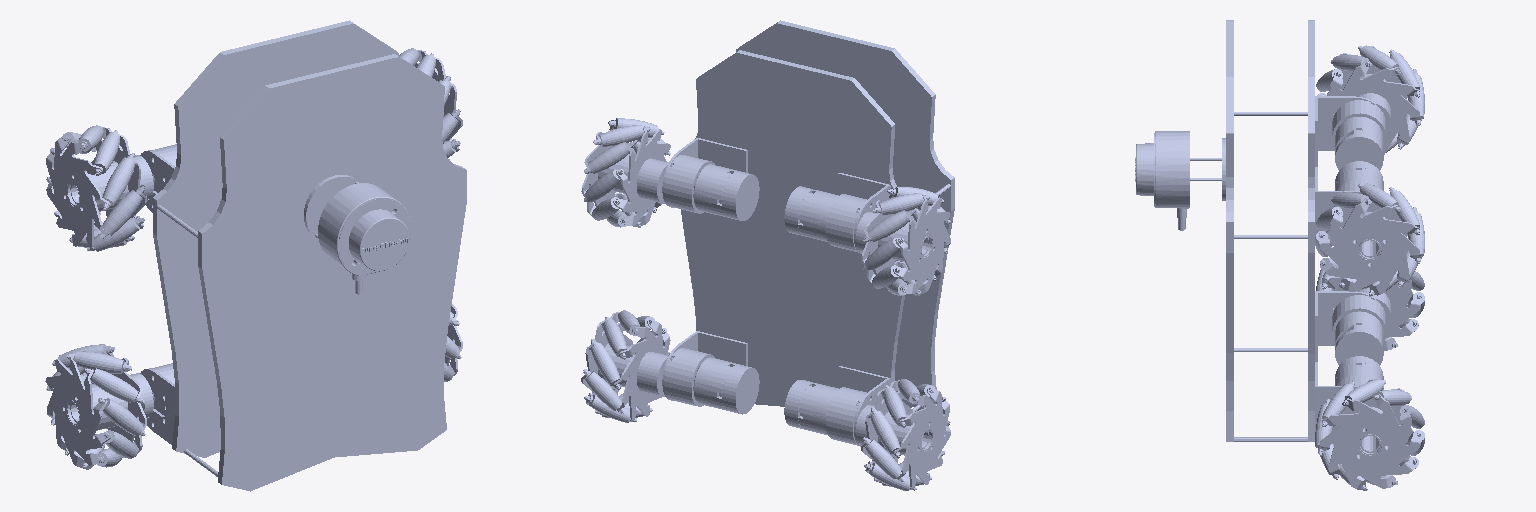
The robot description file, URDF, robot "智能小车装配体.SLDASM":
<?xml version="1.0" encoding="utf-8"?>
<!-- This URDF was automatically created by SolidWorks to URDF Exporter! Originally created by [author] ([email redacted]) 
     Commit Version: 1.6.0-4-g7f85cfe  Build Version: 1.6.7995.38578
     For more information, please see http://wiki.ros.org/sw_urdf_exporter -->
<robot
  name="智能小车装配体.SLDASM">
  <link
    name="base_link">
    <inertial>
      <origin
        xyz="-0.017914 -0.014942 -0.045427"
        rpy="0 0 0" />
      <mass
        value="0.64236" />
      <inertia
        ixx="0.0021986"
        ixy="-2.369E-08"
        ixz="1.0588E-20"
        iyy="0.00095836"
        iyz="9.7164E-21"
        izz="0.0031168" />
    </inertial>
    <visual>
      <origin
        xyz="0 0 0"
        rpy="0 0 0" />
      <geometry>
        <mesh
          filename="package://智能小车装配体.SLDASM/meshes/base_link.STL" />
      </geometry>
      <material
        name="">
        <color
          rgba="0.79216 0.81961 0.93333 1" />
      </material>
    </visual>
    <collision>
      <origin
        xyz="0 0 0"
        rpy="0 0 0" />
      <geometry>
        <mesh
          filename="package://智能小车装配体.SLDASM/meshes/base_link.STL" />
      </geometry>
    </collision>
  </link>
  <link
    name="wheel0_link">
    <inertial>
      <origin
        xyz="0.02814 -5.6685E-05 6.6161E-05"
        rpy="0 0 0" />
      <mass
        value="0.057357" />
      <inertia
        ixx="3.4009E-05"
        ixy="1.3644E-13"
        ixz="-1.4396E-13"
        iyy="2.1059E-05"
        iyz="1.1518E-12"
        izz="2.1081E-05" />
    </inertial>
    <visual>
      <origin
        xyz="0 0 0"
        rpy="0 0 0" />
      <geometry>
        <mesh
          filename="package://智能小车装配体.SLDASM/meshes/wheel0_link.STL" />
      </geometry>
      <material
        name="">
        <color
          rgba="0.79216 0.81961 0.93333 1" />
      </material>
    </visual>
    <collision>
      <origin
        xyz="0 0 0"
        rpy="0 0 0" />
      <geometry>
        <mesh
          filename="package://智能小车装配体.SLDASM/meshes/wheel0_link.STL" />
      </geometry>
    </collision>
  </link>
  <joint
    name="wheel0_joint"
    type="continuous">
    <origin
      xyz="-0.095916 0.092 -0.10744"
      rpy="0.77546 0 -3.1416" />
    <parent
      link="base_link" />
    <child
      link="wheel0_link" />
    <axis
      xyz="0 0 0" />
  </joint>
  <link
    name="wheel1_link">
    <inertial>
      <origin
        xyz="0.028156 0.00020253 0.00013716"
        rpy="0 0 0" />
      <mass
        value="0.057357" />
      <inertia
        ixx="3.4009E-05"
        ixy="-8.7728E-12"
        ixz="-5.1685E-12"
        iyy="2.1059E-05"
        iyz="-5.8727E-12"
        izz="2.1081E-05" />
    </inertial>
    <visual>
      <origin
        xyz="0 0 0"
        rpy="0 0 0" />
      <geometry>
        <mesh
          filename="package://智能小车装配体.SLDASM/meshes/wheel1_link.STL" />
      </geometry>
      <material
        name="">
        <color
          rgba="0.79216 0.81961 0.93333 1" />
      </material>
    </visual>
    <collision>
      <origin
        xyz="0 0 0"
        rpy="0 0 0" />
      <geometry>
        <mesh
          filename="package://智能小车装配体.SLDASM/meshes/wheel1_link.STL" />
      </geometry>
    </collision>
  </link>
  <joint
    name="wheel1_joint"
    type="continuous">
    <origin
      xyz="-0.095916 0.092 0.037722"
      rpy="0.77546 0 -3.1416" />
    <parent
      link="base_link" />
    <child
      link="wheel1_link" />
    <axis
      xyz="0 0 0" />
  </joint>
  <link
    name="wheel2_link">
    <inertial>
      <origin
        xyz="-0.012156 0.00020249 0.00013716"
        rpy="0 0 0" />
      <mass
        value="0.057357" />
      <inertia
        ixx="3.4009E-05"
        ixy="2.8423E-12"
        ixz="4.6964E-12"
        iyy="2.1059E-05"
        iyz="1.2843E-11"
        izz="2.1081E-05" />
    </inertial>
    <visual>
      <origin
        xyz="0 0 0"
        rpy="0 0 0" />
      <geometry>
        <mesh
          filename="package://智能小车装配体.SLDASM/meshes/wheel2_link.STL" />
      </geometry>
      <material
        name="">
        <color
          rgba="0.79216 0.81961 0.93333 1" />
      </material>
    </visual>
    <collision>
      <origin
        xyz="0 0 0"
        rpy="0 0 0" />
      <geometry>
        <mesh
          filename="package://智能小车装配体.SLDASM/meshes/wheel2_link.STL" />
      </geometry>
    </collision>
  </link>
  <joint
    name="wheel2_joint"
    type="continuous">
    <origin
      xyz="0.07609 0.092 0.037722"
      rpy="0.77546 0 3.1416" />
    <parent
      link="base_link" />
    <child
      link="wheel2_link" />
    <axis
      xyz="0 0 0" />
  </joint>
  <link
    name="wheel3_link">
    <inertial>
      <origin
        xyz="-0.01216 -5.6685E-05 6.6161E-05"
        rpy="0 0 0" />
      <mass
        value="0.057357" />
      <inertia
        ixx="3.4009E-05"
        ixy="1.3644E-13"
        ixz="-1.4396E-13"
        iyy="2.1059E-05"
        iyz="1.1518E-12"
        izz="2.1081E-05" />
    </inertial>
    <visual>
      <origin
        xyz="0 0 0"
        rpy="0 0 0" />
      <geometry>
        <mesh
          filename="package://智能小车装配体.SLDASM/meshes/wheel3_link.STL" />
      </geometry>
      <material
        name="">
        <color
          rgba="0.79216 0.81961 0.93333 1" />
      </material>
    </visual>
    <collision>
      <origin
        xyz="0 0 0"
        rpy="0 0 0" />
      <geometry>
        <mesh
          filename="package://智能小车装配体.SLDASM/meshes/wheel3_link.STL" />
      </geometry>
    </collision>
  </link>
  <joint
    name="wheel3_joint"
    type="continuous">
    <origin
      xyz="0.07609 0.092 -0.10744"
      rpy="0.77546 0 3.1416" />
    <parent
      link="base_link" />
    <child
      link="wheel3_link" />
    <axis
      xyz="0 0 0" />
  </joint>
  <link
    name="laser_link">
    <inertial>
      <origin
        xyz="-0.017914 -0.014942 -0.045427"
        rpy="0 0 0" />
      <mass
        value="0.64236" />
      <inertia
        ixx="0.0021986"
        ixy="-2.369E-08"
        ixz="1.0588E-20"
        iyy="0.00095836"
        iyz="9.7164E-21"
        izz="0.0031168" />
    </inertial>
    <visual>
      <origin
        xyz="0 0 0"
        rpy="0 0 0" />
      <geometry>
        <mesh
          filename="package://智能小车装配体.SLDASM/meshes/laser_link.STL" />
      </geometry>
      <material
        name="">
        <color
          rgba="0.79216 0.81961 0.93333 1" />
      </material>
    </visual>
    <collision>
      <origin
        xyz="0 0 0"
        rpy="0 0 0" />
      <geometry>
        <mesh
          filename="package://智能小车装配体.SLDASM/meshes/laser_link.STL" />
      </geometry>
    </collision>
  </link>
  <joint
    name="laser_joint"
    type="fixed">
    <origin
      xyz="-0.017913 -0.005 0.038761"
      rpy="-1.5708 0 -1.5708" />
    <parent
      link="base_link" />
    <child
      link="laser_link" />
    <axis
      xyz="0 0 0" />
  </joint>
</robot>

--- Facts derived from the render (not from the file) ---
3 views of the same robot in one strip: view 1: azimuth 30°, elevation 25°; view 2: azimuth 150°, elevation 25°; view 3: azimuth 270°, elevation 25° (orthographic).
Robot: 智能小车装配体.SLDASM — 6 links, 5 joints (4 continuous, 1 fixed); root link base_link; default pose: every joint at zero.
Links seen in each view (by area): view 1: base_link, wheel0_link, wheel1_link, laser_link, wheel2_link, wheel3_link; view 2: base_link, wheel1_link, wheel0_link, wheel2_link, wheel3_link; view 3: base_link, wheel3_link, wheel2_link, wheel1_link, laser_link, wheel0_link.
Boxes of the visible links, x1=… form: base_link: x1=140, y1=20, x2=466, y2=491; wheel0_link: x1=45, y1=344, x2=153, y2=469; wheel1_link: x1=46, y1=125, x2=153, y2=251; laser_link: x1=304, y1=175, x2=410, y2=294; wheel2_link: x1=399, y1=48, x2=462, y2=159; wheel3_link: x1=444, y1=304, x2=462, y2=381; base_link: x1=662, y1=20, x2=954, y2=446; wheel1_link: x1=855, y1=187, x2=950, y2=295; wheel0_link: x1=855, y1=379, x2=950, y2=490; wheel2_link: x1=581, y1=118, x2=670, y2=227; wheel3_link: x1=581, y1=310, x2=670, y2=422; base_link: x1=1226, y1=20, x2=1385, y2=441; wheel3_link: x1=1315, y1=379, x2=1424, y2=490; wheel2_link: x1=1315, y1=183, x2=1424, y2=295; wheel1_link: x1=1316, y1=45, x2=1424, y2=154; laser_link: x1=1135, y1=131, x2=1225, y2=230; wheel0_link: x1=1316, y1=269, x2=1424, y2=350.
Bounding box of the posed robot: 0.252 × 0.1962 × 0.2734 m (x, y, z).
Meshes: 6 distinct files referenced, 6 mesh visuals loaded (6 binary STL).